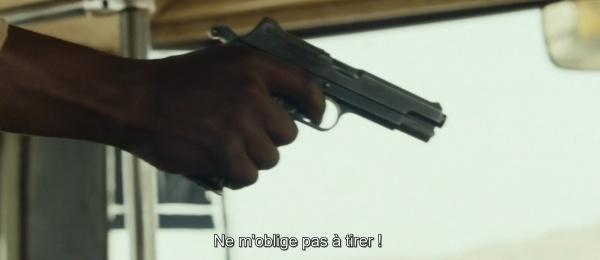Gun: (217, 14, 449, 143)
